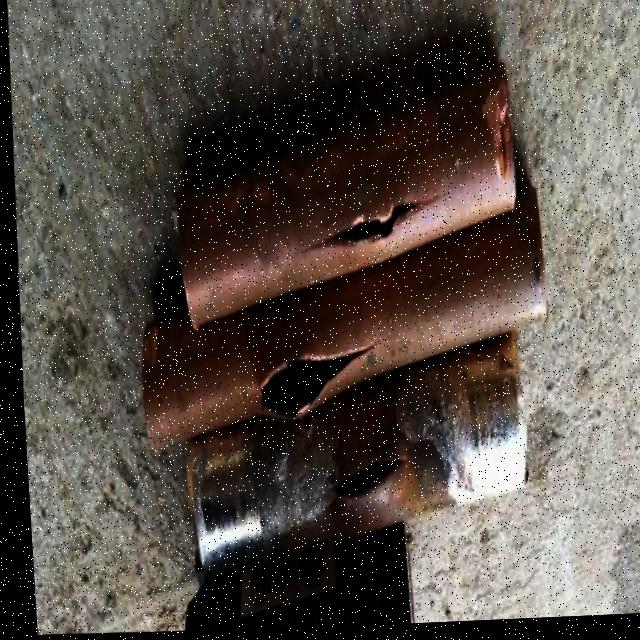crack: (290, 190, 445, 263)
rupture: (247, 334, 380, 429), (320, 449, 407, 513)
